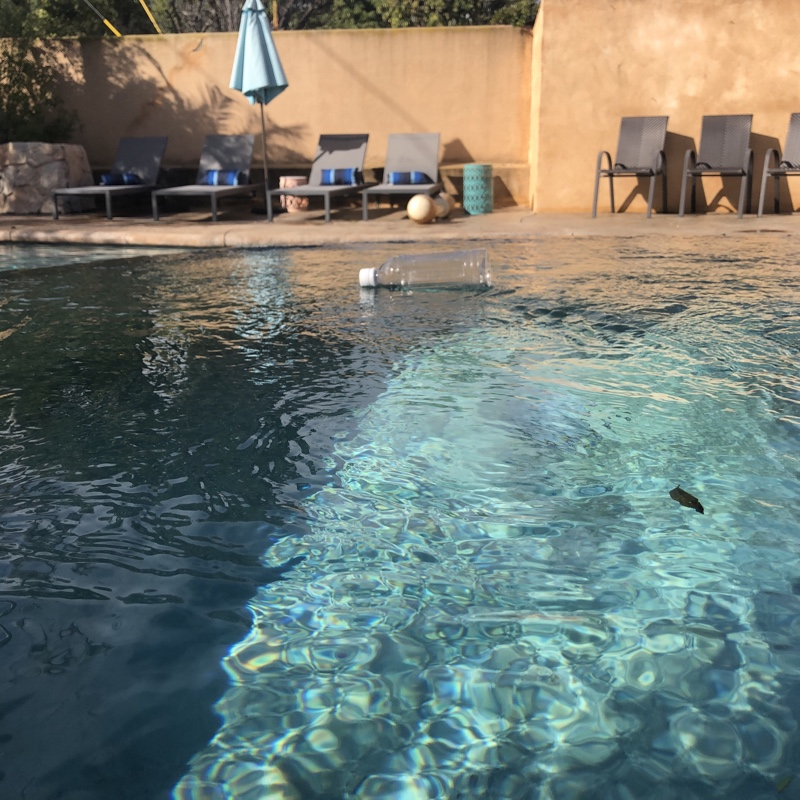Plastic Bottle: (355, 249, 495, 294)
